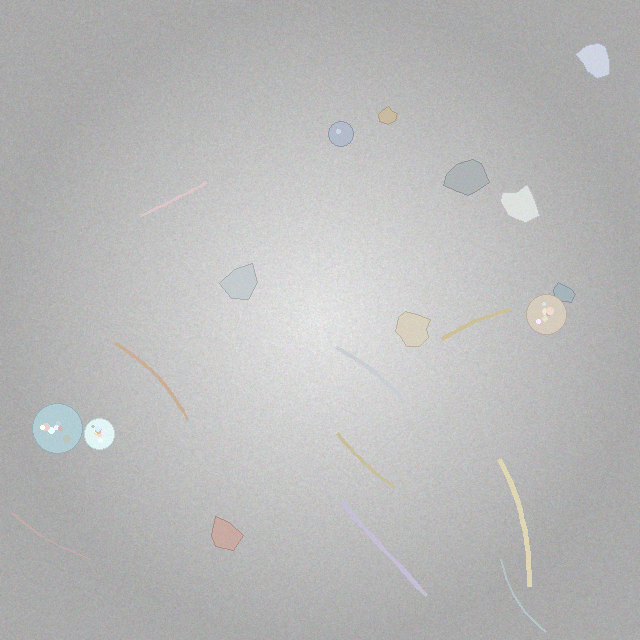fiber: (336, 497, 432, 601), (343, 418, 425, 506), (112, 340, 191, 424), (495, 455, 534, 592), (333, 343, 406, 402), (9, 510, 92, 560), (334, 430, 398, 491), (498, 557, 548, 634), (137, 178, 210, 220), (438, 305, 514, 344)
foam: (32, 403, 82, 453), (526, 294, 566, 334), (84, 418, 115, 449)
fragment: (443, 160, 490, 195), (500, 184, 539, 222), (220, 264, 258, 300), (395, 311, 430, 347), (576, 43, 610, 78), (211, 517, 243, 551), (553, 282, 575, 303), (379, 107, 397, 124)
pellet: (328, 121, 353, 146)
